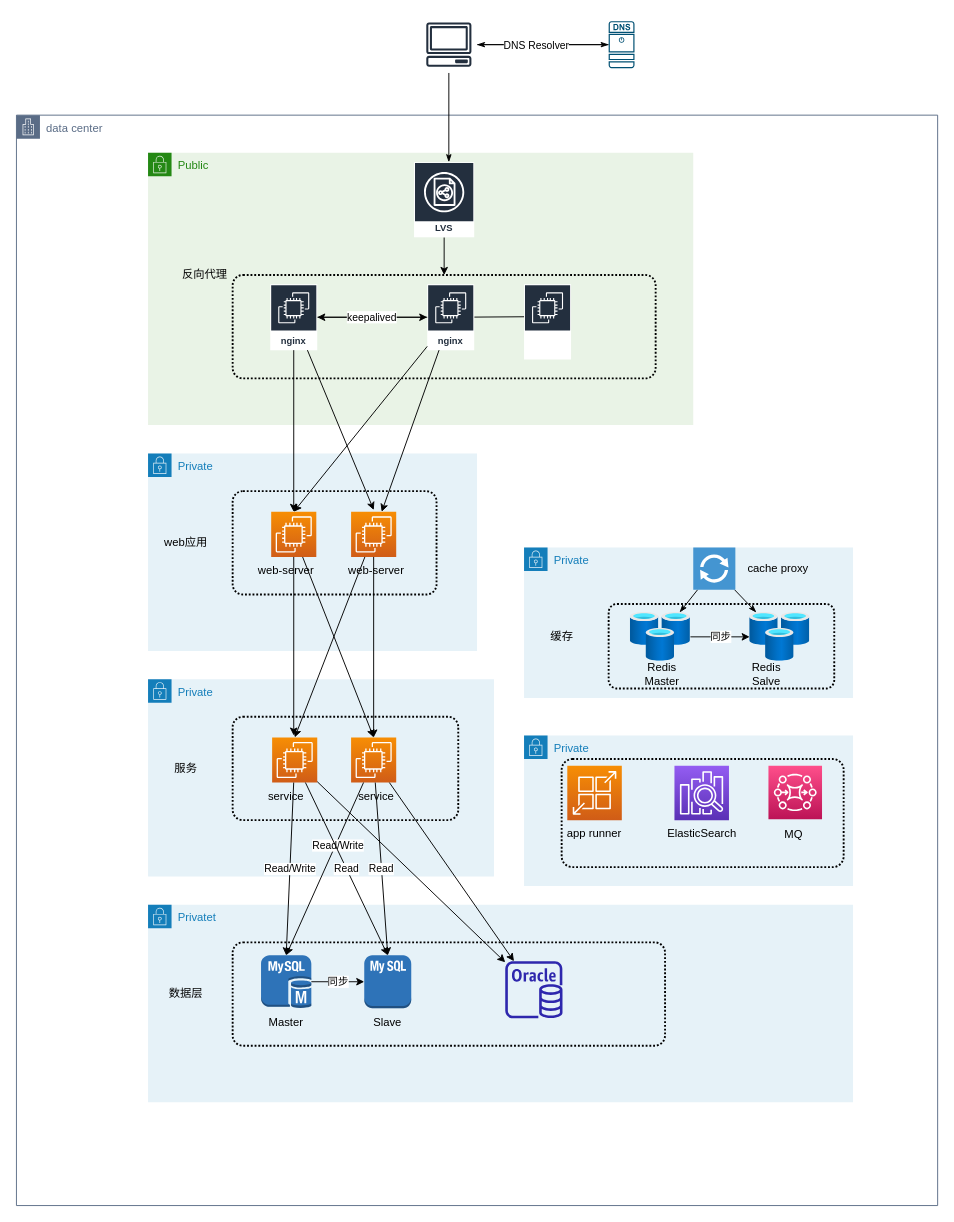
This 954x1222 diagram has some shape labels left out. The centre of each missing label's shape, as x and y in pixels:
Client: point 448,44
shadow nginx: point 547,321
